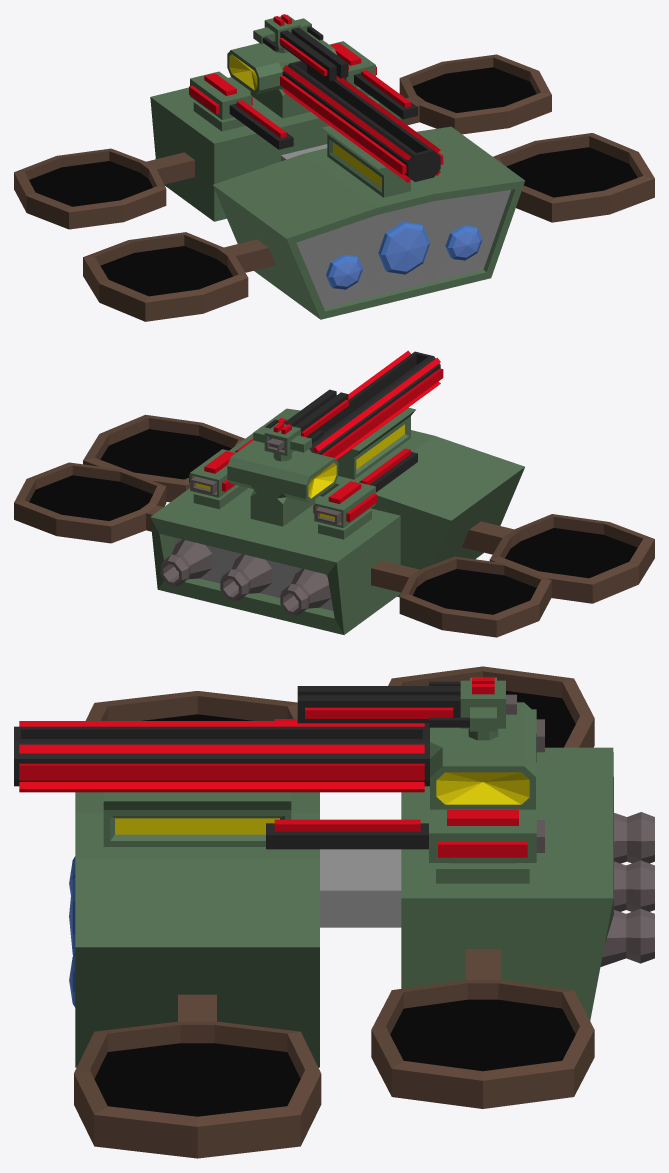
Rendered from Robot.fbx.
3 renders of one model, top to bottom at view 1: azimuth 30°, elevation 25°; view 2: azimuth 150°, elevation 25°; view 3: azimuth 270°, elevation 25°, orthographic. The views are drawn at different scales.
Visible parts, largest first — view 1: Cube, Cube.001; view 2: Cube, Cube.001; view 3: Cube, Cube.001.
Part boxes in pixels (x1,y1,x2,y2): Cube: [14, 33, 654, 321]; Cube.001: [253, 14, 348, 81]; Cube: [14, 350, 654, 637]; Cube.001: [253, 389, 348, 456]; Cube: [14, 666, 654, 1158]; Cube.001: [297, 677, 516, 731].
Size of the model in its own units: 1265 by 428 by 786.
